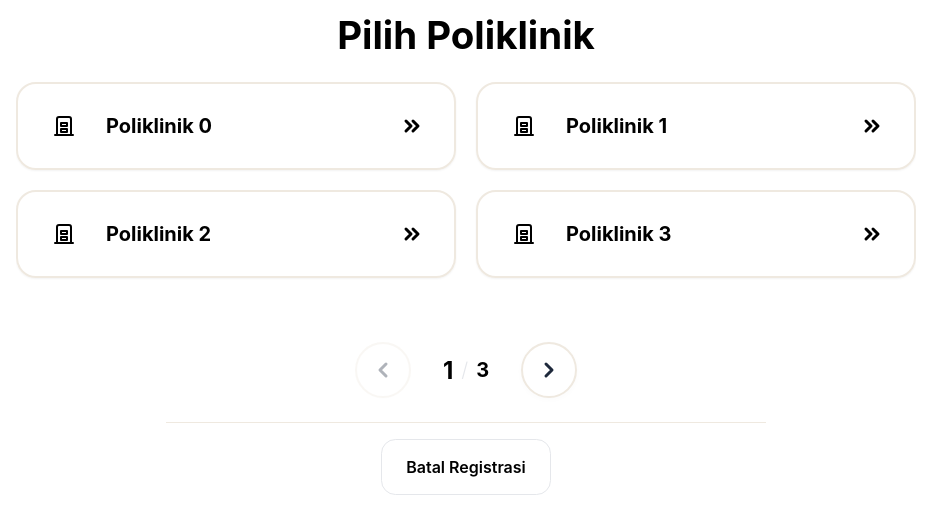
WalkinServiceStep › loads and paginates polyclinics list
This screenshot has width=933, height=512.
Expected: the number of buttons with class "radio-card" is 4, x1=16 y1=82 x2=456 y2=170; x1=476 y1=82 x2=916 y2=170; x1=16 y1=190 x2=456 y2=278; x1=476 y1=190 x2=916 y2=278
Expected: the button with class "radio-card" reads "Poliklinik 0", x1=16 y1=82 x2=456 y2=170
Note: Click next page
Click the button with class "next-btn". click: (549, 370)
box: x1=521 y1=342 x2=577 y2=398
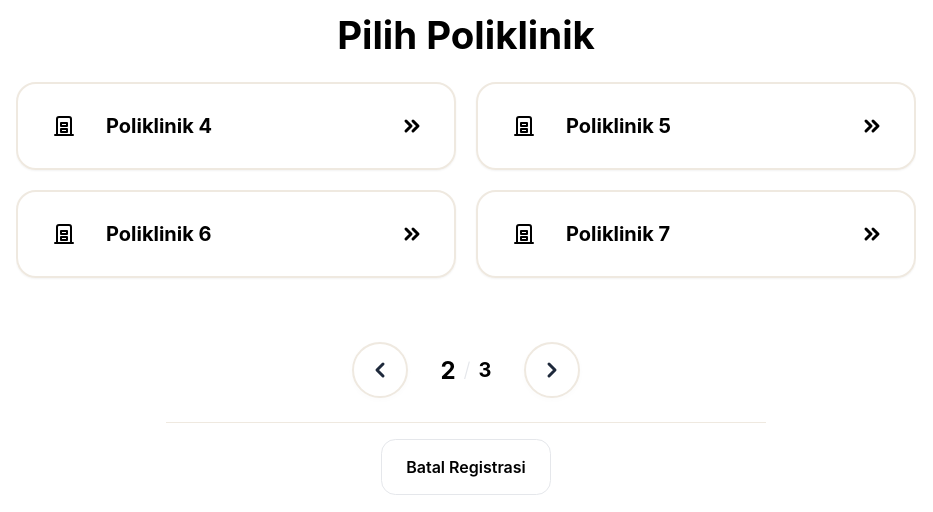
Expected: the button with class "radio-card" reads "Poliklinik 4", x1=16 y1=82 x2=456 y2=170
Expected: the button with class "radio-card" reads "Poliklinik 7", x1=476 y1=190 x2=916 y2=278
Expected: the element with test id "kiosk-pagination" reads "2 / 3", x1=352 y1=342 x2=580 y2=398
